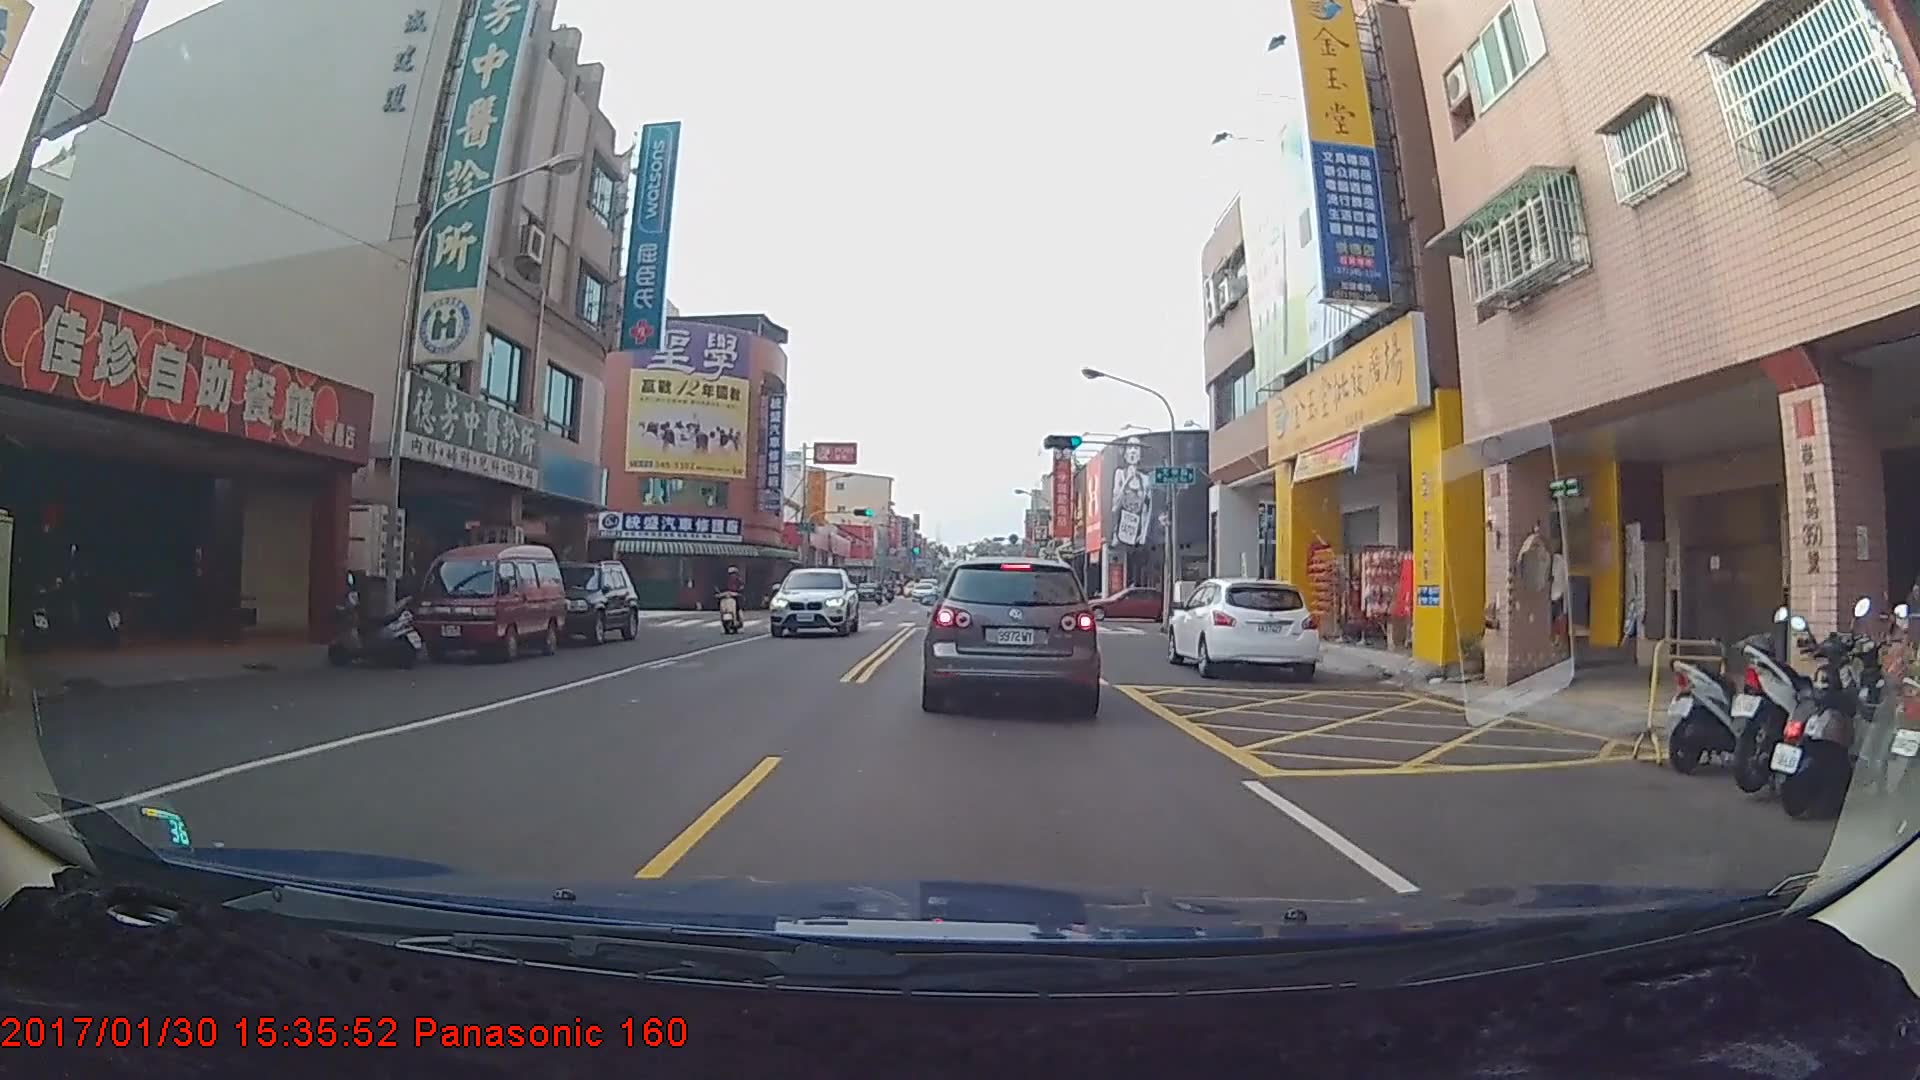rider: (712, 560, 754, 633)
vehicle: (925, 553, 1098, 714), (412, 537, 565, 658), (1172, 574, 1321, 680), (524, 557, 638, 644), (777, 557, 862, 633), (1077, 588, 1187, 621), (911, 577, 937, 597)
